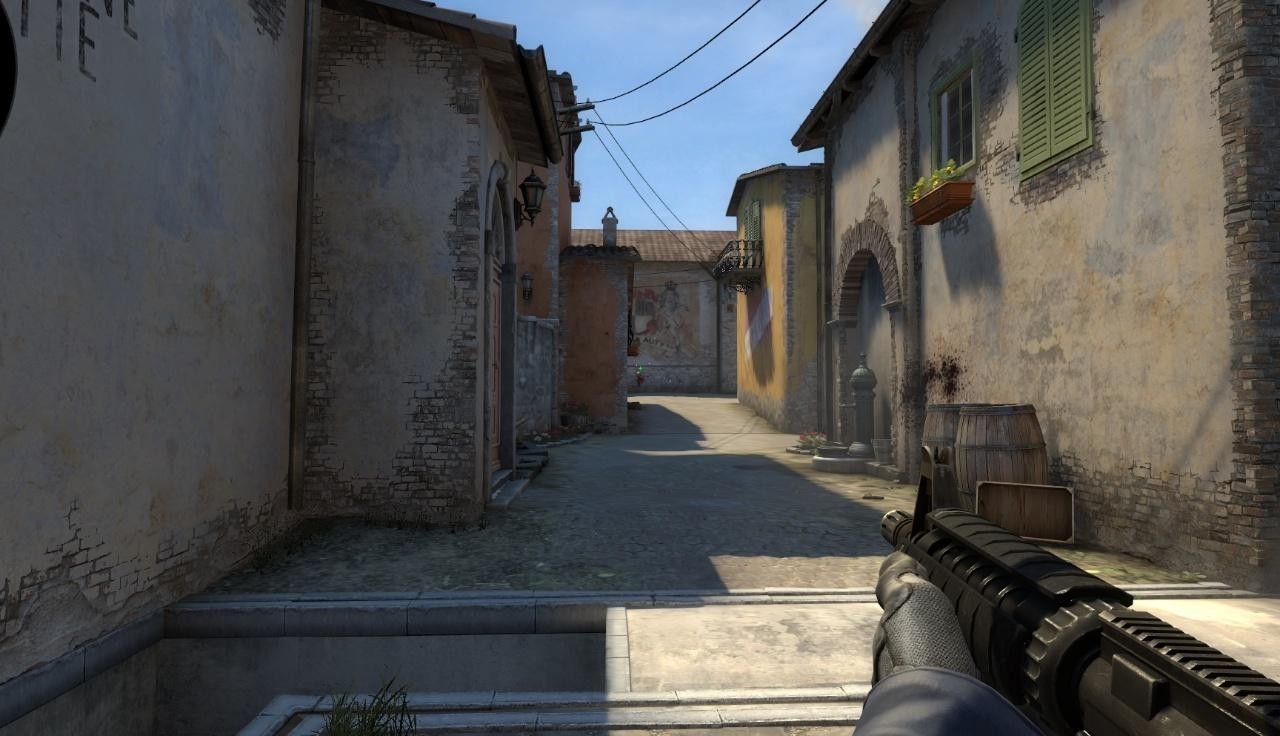rifle: (876, 444, 1280, 736)
